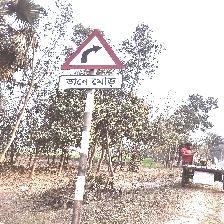Right-turn: (59, 30, 125, 92)
